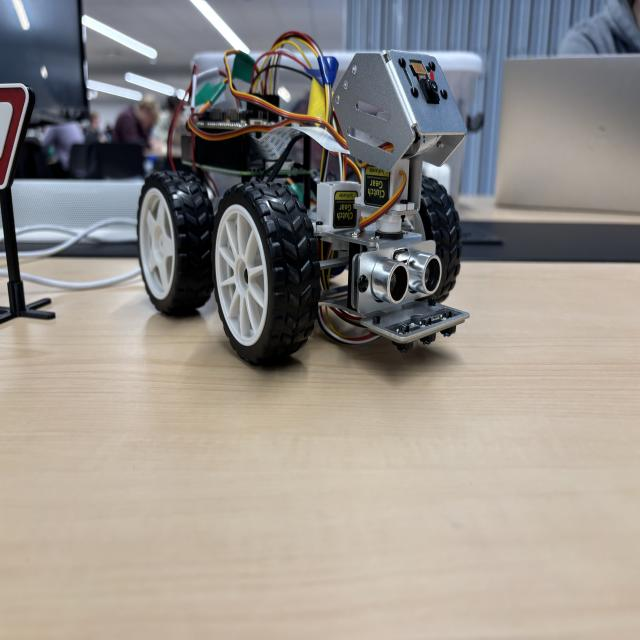vehicle: (137, 31, 469, 366)
